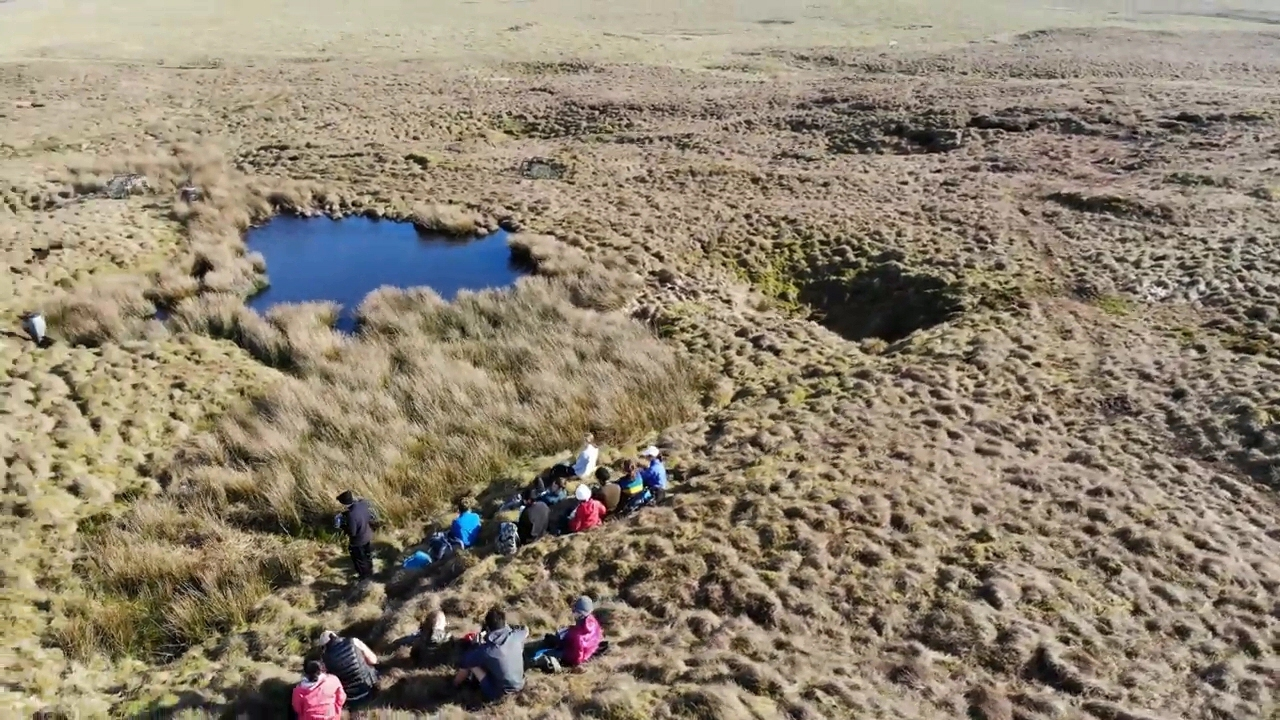insan: (444, 607, 526, 698), (527, 588, 602, 679), (329, 491, 381, 580), (445, 490, 489, 549), (399, 523, 454, 570), (559, 432, 600, 483)
